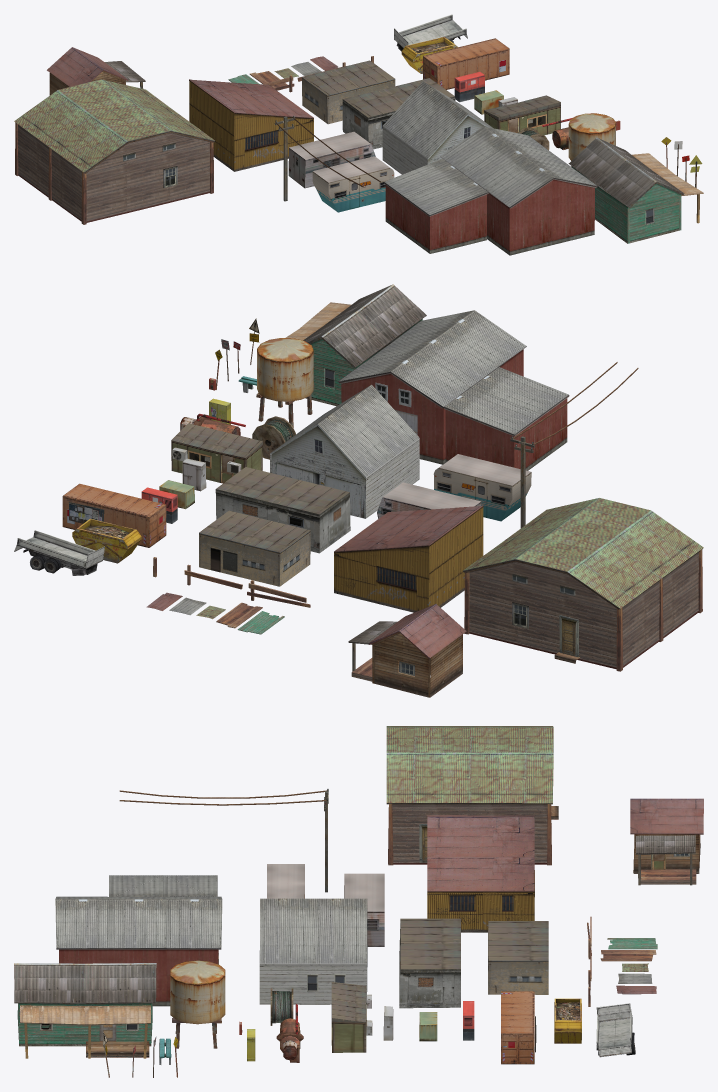
Rendered from lowpoly_buildings.glb.
3 renders of one model, top to bottom at view 1: azimuth 30°, elevation 25°; view 2: azimuth 150°, elevation 25°; view 3: azimuth 270°, elevation 25°, orthographic. The views are drawn at different scales.
Visible parts, largest first — view 1: house02_elements_0, barn01_elements_0, barrack04_elements_0, barn01_add_elements_0, house01_elements_0, barn03_elements_0, barrack03_elements_0, trailer01_elements_0, container02_elements_0, barrack02_elements_0, trailer02_elements_0, barrack01_elements_0 (+10 smaller); view 2: house02_elements_0, barn01_elements_0, barrack04_elements_0, barn03_elements_0, barn01_add_elements_0, house01_elements_0, barrack02_elements_0, house03_elements_0, barrack03_elements_0, trailer01_elements_0, watertank01_elements_0, container02_elements_0 (+11 smaller); view 3: house02_elements_0, barn01_elements_0, barrack04_elements_0, barn03_elements_0, house01_elements_0, barrack02_elements_0, barrack03_elements_0, house03_elements_0, watertank01_elements_0, house01_roof_elements_0, container02_elements_0, barrack01_elements_0 (+14 smaller).
Part boxes in pixels (x1=…): house02_elements_0: x1=14, y1=79, x2=214, y2=224; barn01_elements_0: x1=440, y1=126, x2=597, y2=255; barrack04_elements_0: x1=189, y1=79, x2=313, y2=171; barn01_add_elements_0: x1=384, y1=159, x2=488, y2=253; house01_elements_0: x1=568, y1=137, x2=684, y2=243; barn03_elements_0: x1=382, y1=81, x2=492, y2=174; barrack03_elements_0: x1=302, y1=60, x2=395, y2=124; trailer01_elements_0: x1=312, y1=156, x2=394, y2=212; container02_elements_0: x1=423, y1=38, x2=509, y2=89; barrack02_elements_0: x1=342, y1=78, x2=455, y2=149; trailer02_elements_0: x1=288, y1=131, x2=375, y2=188; barrack01_elements_0: x1=484, y1=95, x2=560, y2=135; house02_elements_0: x1=463, y1=498, x2=703, y2=671; barn01_elements_0: x1=338, y1=310, x2=526, y2=464; barrack04_elements_0: x1=334, y1=505, x2=483, y2=612; barn03_elements_0: x1=270, y1=384, x2=419, y2=518; barn01_add_elements_0: x1=444, y1=367, x2=569, y2=470; house01_elements_0: x1=303, y1=284, x2=426, y2=406; barrack02_elements_0: x1=215, y1=467, x2=350, y2=553; house03_elements_0: x1=368, y1=604, x2=466, y2=697; barrack03_elements_0: x1=199, y1=510, x2=310, y2=586; trailer01_elements_0: x1=433, y1=454, x2=531, y2=521; watertank01_elements_0: x1=256, y1=338, x2=314, y2=427; container02_elements_0: x1=62, y1=483, x2=166, y2=547; house02_elements_0: x1=386, y1=726, x2=558, y2=865; barn01_elements_0: x1=55, y1=896, x2=222, y2=1006; barrack04_elements_0: x1=426, y1=815, x2=534, y2=932; barn03_elements_0: x1=259, y1=898, x2=367, y2=1004; house01_elements_0: x1=14, y1=963, x2=156, y2=1046; barrack02_elements_0: x1=399, y1=918, x2=460, y2=1008; barrack03_elements_0: x1=488, y1=921, x2=548, y2=994; house03_elements_0: x1=630, y1=798, x2=703, y2=873; watertank01_elements_0: x1=170, y1=960, x2=225, y2=1048; house01_roof_elements_0: x1=20, y1=1005, x2=150, y2=1058; container02_elements_0: x1=501, y1=991, x2=534, y2=1064; barrack01_elements_0: x1=331, y1=982, x2=366, y2=1052.
Size of the model in its own units: 42.01 by 6.88 by 42.07.
1 material, 1 textured.
